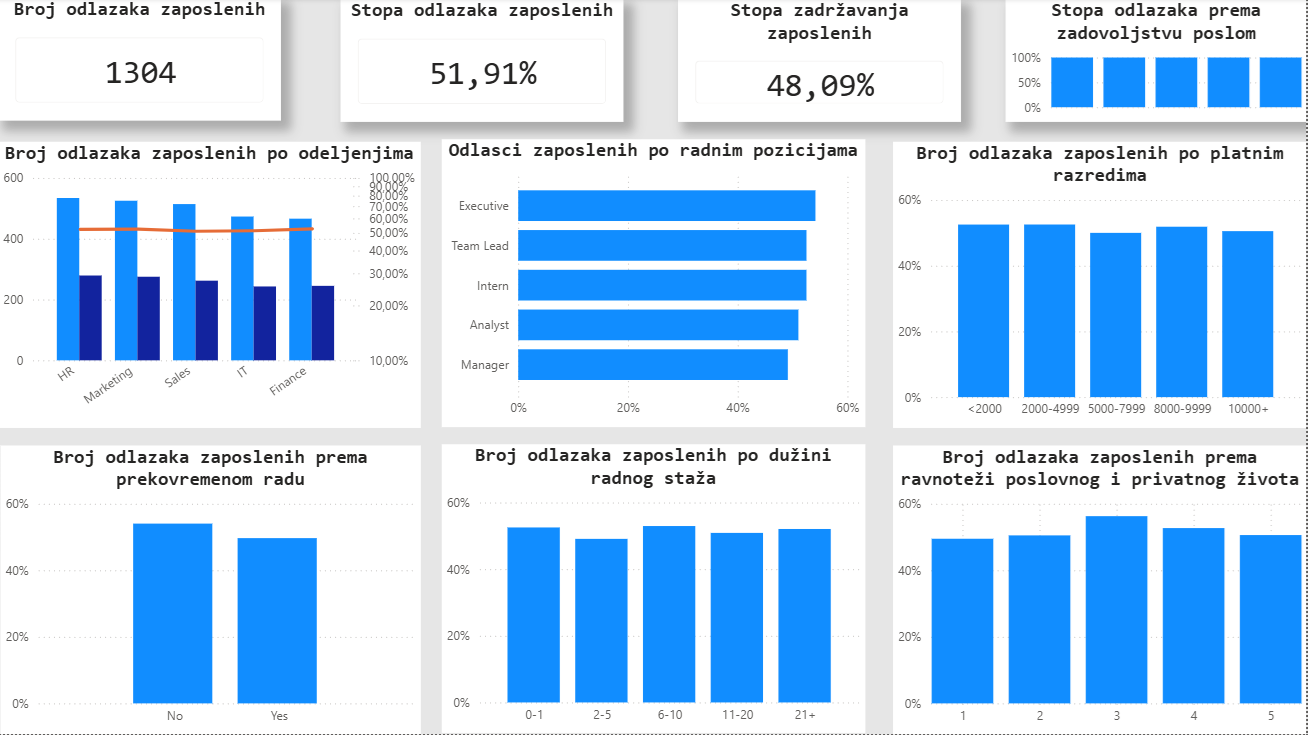

This screenshot's page, from the dashboard's own definition file:
{"tool":"powerbi","page":{"name":"Analiza odlazaka zaposlenih","canvas":[1280,720],"ordinal":1},"visuals":[{"type":"cardVisual","title":"Broj odlazaka zaposlenih","fields":{"Data":["HR_Dataset.Broj radnika koji je otisao"]},"box":[0,0,277,119.7],"z":0},{"type":"cardVisual","title":"Stopa odlazaka zaposlenih","fields":{"Data":["HR_Dataset.Stopa odlazaka"]},"box":[334.7,1.4,277,119.7],"z":1000},{"type":"cardVisual","title":"Stopa zadržavanja zaposlenih","fields":{"Data":["HR_Dataset.Stopa zadrzavanja"]},"box":[665.1,1.4,277,119.7],"z":2000},{"type":"hundredPercentStackedColumnChart","title":"Stopa odlazaka prema zadovoljstvu poslom","fields":{"Category":["HR_Dataset.Job_Satisfaction"],"Y":["HR_Dataset.Stopa odlazaka"]},"box":[985.6,1.2,294.7,119.8],"z":3000},{"type":"lineClusteredColumnComboChart","title":"Broj odlazaka zaposlenih po odeljenjima","fields":{"Y":["CountNonNull(HR_Dataset.Employee_ID)","HR_Dataset.Broj radnika koji je otisao"],"Category":["HR_Dataset.Department"],"Y2":["HR_Dataset.Stopa odlazaka"]},"box":[0,140.6,413.3,280],"z":4000},{"type":"clusteredBarChart","title":"Odlasci zaposlenih po radnim pozicijama","fields":{"Category":["HR_Dataset.Job_Role"],"Y":["HR_Dataset.Stopa odlazaka"]},"box":[434.3,138.5,414.1,281.3],"z":5000},{"type":"clusteredColumnChart","title":"Broj odlazaka zaposlenih po platnim razredima","fields":{"Y":["HR_Dataset.Stopa odlazaka"],"Category":["HR_Dataset.Salary group"]},"box":[875.5,140.6,404.8,280],"z":6000},{"type":"clusteredColumnChart","title":"Broj odlazaka zaposlenih prema prekovremenom radu","fields":{"Category":["HR_Dataset.Overtime"],"Y":["HR_Dataset.Stopa odlazaka"]},"box":[2.4,437.8,410.9,282.5],"z":7000},{"type":"clusteredColumnChart","title":"Broj odlazaka zaposlenih po dužini radnog staža","fields":{"Y":["HR_Dataset.Stopa odlazaka"],"Category":["HR_Dataset.Grupa godine u kompaniji"]},"box":[434.3,437.2,414.1,282.8],"z":8000},{"type":"clusteredColumnChart","title":"Broj odlazaka zaposlenih prema ravnoteži poslovnog i privatnog života","fields":{"Category":["HR_Dataset.Work_Life_Balance"],"Y":["HR_Dataset.Stopa odlazaka"]},"box":[875.5,437.8,404.8,282.5],"z":9000}]}

Visuals, with their boxes in screenshot pixels (x1, y1, x2, y2), scaled from the page's 1280x720 canvas onto the 1308x735 screenshot:
"Broj odlazaka zaposlenih" cardVisual: <box>0,0,283,122</box>
"Stopa odlazaka zaposlenih" cardVisual: <box>342,1,625,124</box>
"Stopa zadržavanja zaposlenih" cardVisual: <box>680,1,963,124</box>
"Stopa odlazaka prema zadovoljstvu poslom" hundredPercentStackedColumnChart: <box>1007,1,1307,124</box>
"Broj odlazaka zaposlenih po odeljenjima" lineClusteredColumnComboChart: <box>0,144,422,429</box>
"Odlasci zaposlenih po radnim pozicijama" clusteredBarChart: <box>444,141,867,429</box>
"Broj odlazaka zaposlenih po platnim razredima" clusteredColumnChart: <box>895,144,1307,429</box>
"Broj odlazaka zaposlenih prema prekovremenom radu" clusteredColumnChart: <box>2,447,422,734</box>
"Broj odlazaka zaposlenih po dužini radnog staža" clusteredColumnChart: <box>444,446,867,734</box>
"Broj odlazaka zaposlenih prema ravnoteži poslovnog i privatnog života" clusteredColumnChart: <box>895,447,1307,734</box>
